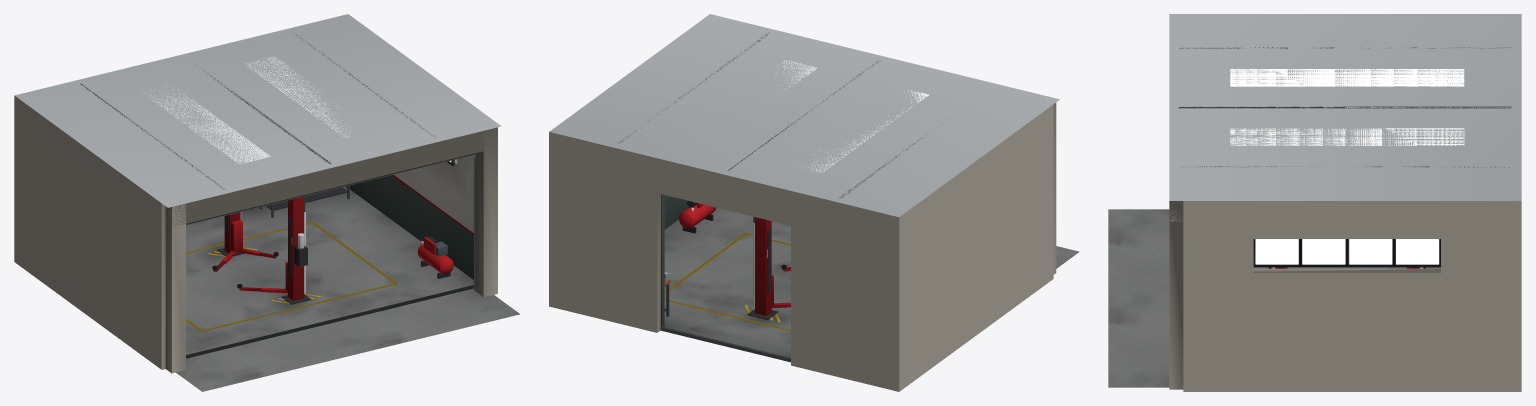
Rendered from garage-lo-v1.glb.
The picture shows the model from 3 angles, left to right: view 1: azimuth 30°, elevation 25°; view 2: azimuth 150°, elevation 25°; view 3: azimuth 270°, elevation 25°; orthographic projection. The views are drawn at different scales.
Visible parts, largest first — view 1: roof, floor, walls, front, lift_frame, props, arms_mesh, workbench, carriage_body; view 2: walls, roof, floor, lift_frame, door, props, front; view 3: roof, walls, floor, lights, front.
Boxes of the visible parts, x1,y1,x2,y2 form: roof: (14, 14, 501, 207); floor: (176, 186, 519, 391); walls: (14, 95, 475, 369); front: (165, 127, 497, 373); lift_frame: (217, 196, 311, 304); props: (417, 236, 453, 278); arms_mesh: (212, 248, 287, 293); workbench: (259, 185, 349, 217); carriage_body: (230, 220, 287, 291); walls: (549, 104, 1053, 391); roof: (549, 14, 1059, 216); floor: (664, 208, 1079, 357); lift_frame: (747, 216, 777, 319); door: (660, 194, 790, 362); props: (679, 201, 716, 233); front: (1053, 102, 1056, 274); roof: (1169, 14, 1521, 200); walls: (1183, 201, 1521, 391); floor: (1108, 209, 1440, 387); lights: (1253, 239, 1440, 267); front: (1169, 201, 1183, 389).
Size of the model in its own units: 9.44 by 4.5 by 8.82.
26 materials, 2 textured.
